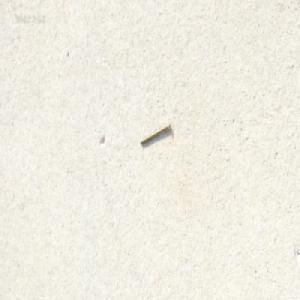Bolt: (139, 119, 171, 145)
